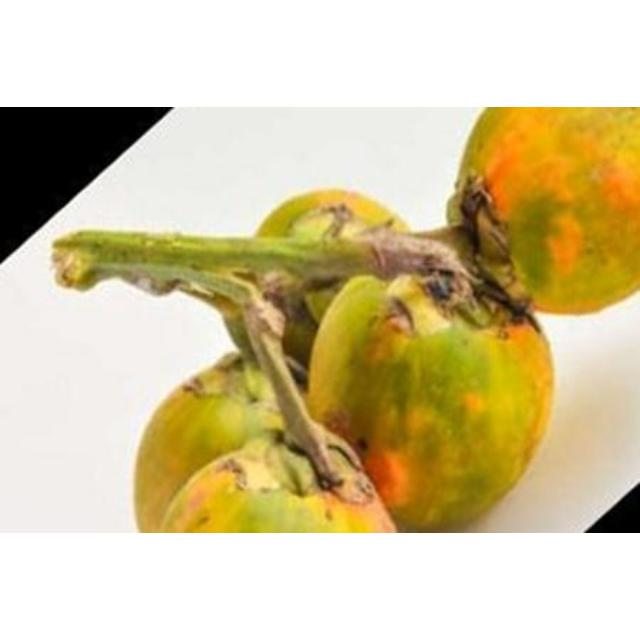good: (313, 280, 559, 530), (456, 110, 636, 316), (132, 354, 286, 532), (252, 190, 408, 362)
